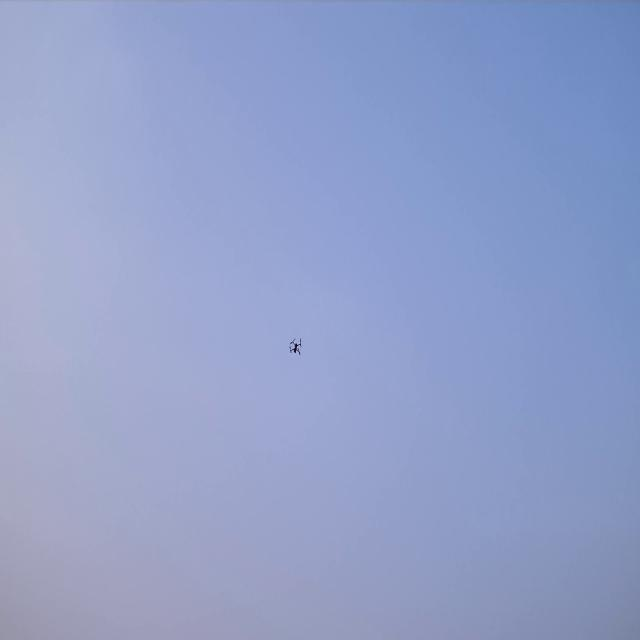UAV: (288, 336, 302, 356)
